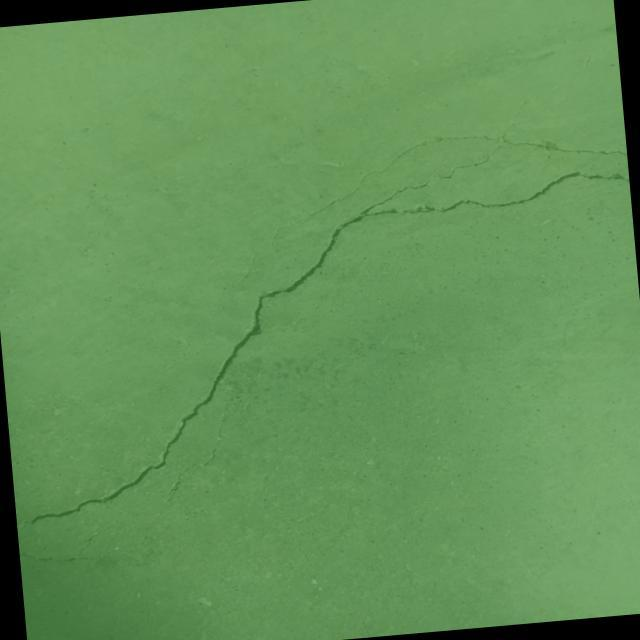crack: (0, 122, 640, 528), (266, 132, 501, 238), (18, 518, 164, 566), (162, 448, 220, 502), (212, 406, 229, 444)
